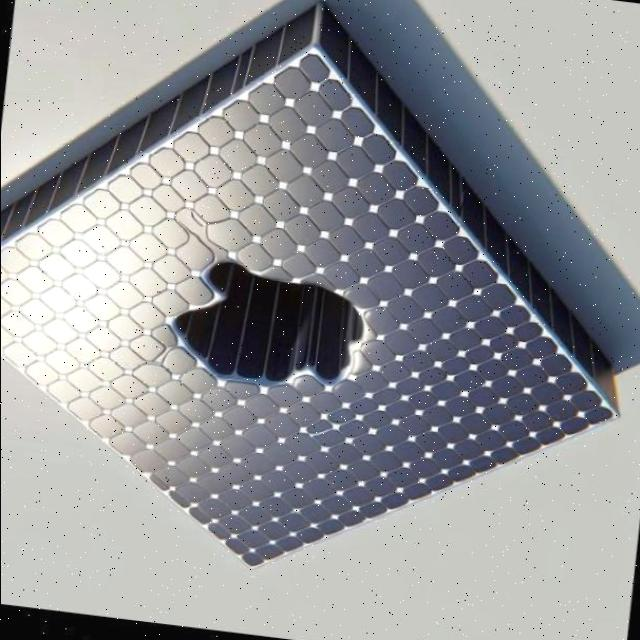Anomaly Solar Panel: (0, 13, 615, 640)
Structural Damage: (155, 249, 374, 422)
